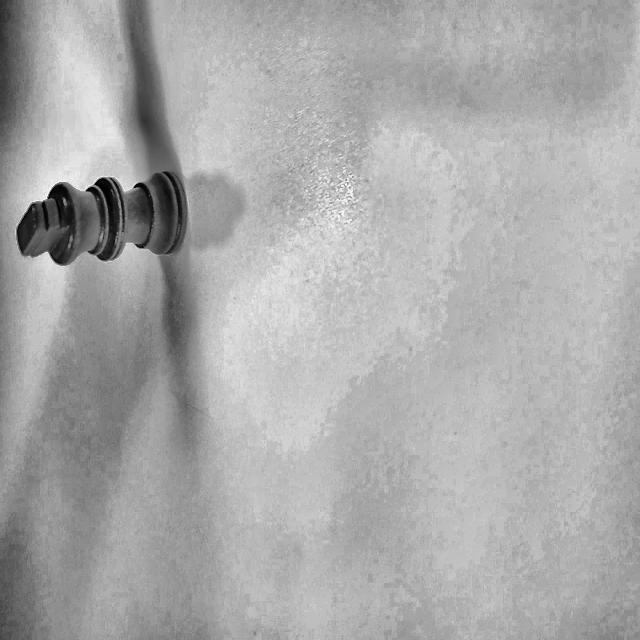black-king: (11, 159, 210, 282)
